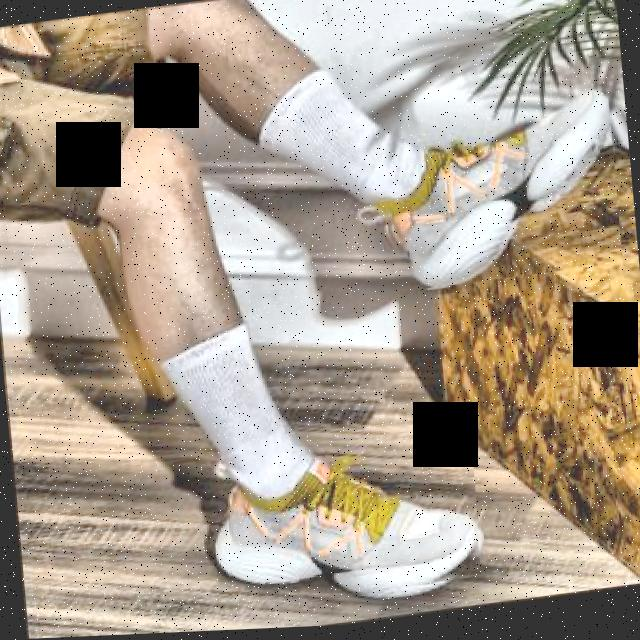shoe: (207, 427, 486, 620), (372, 92, 622, 297)
